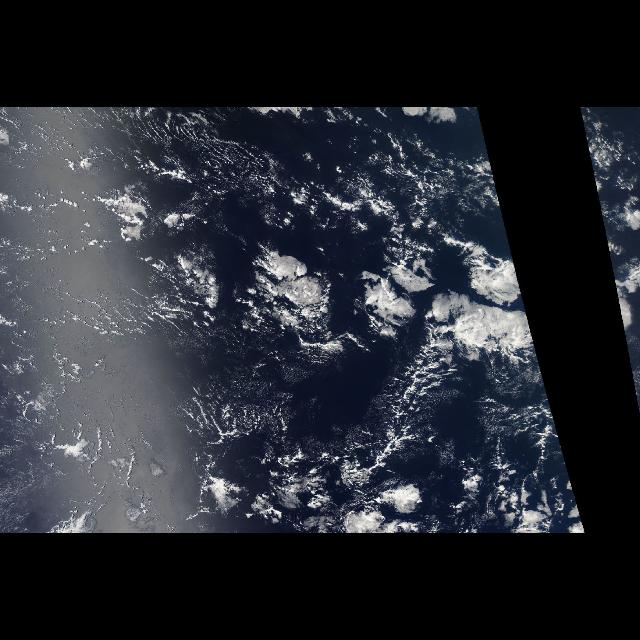Fish: (307, 345, 448, 493), (172, 327, 302, 411)
Flower: (107, 186, 548, 400)
